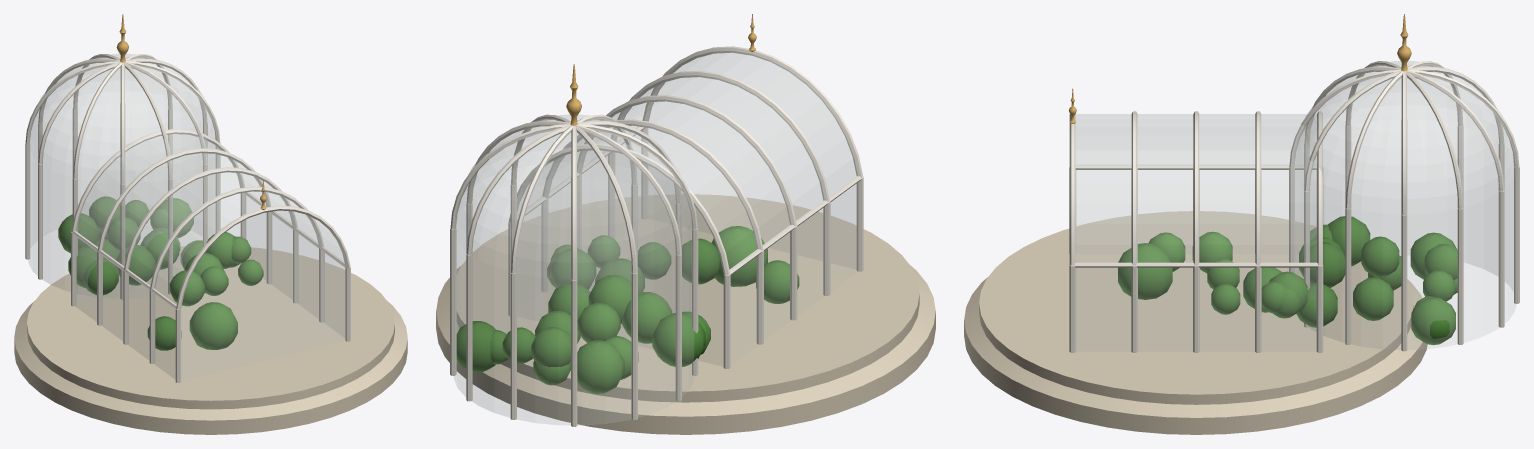
The model's file is mini.glb.
3 renders of one model, left to right at view 1: azimuth 30°, elevation 25°; view 2: azimuth 150°, elevation 25°; view 3: azimuth 270°, elevation 25°, orthographic. The views are drawn at different scales.
Parts seen in each view (by area): view 1: mini_glass, mini_base, mini_iron, mini_leaves; view 2: mini_glass, mini_base, mini_iron, mini_leaves; view 3: mini_glass, mini_base, mini_iron, mini_leaves.
Part boxes in pixels (left/top/right/bottom): mini_glass: left=28, top=54, right=345, bottom=380; mini_base: left=14, top=246, right=407, bottom=434; mini_iron: left=25, top=14, right=350, bottom=382; mini_leaves: left=58, top=196, right=263, bottom=350; mini_glass: left=454, top=51, right=857, bottom=425; mini_base: left=436, top=194, right=935, bottom=434; mini_iron: left=450, top=14, right=863, bottom=426; mini_leaves: left=456, top=226, right=799, bottom=393; mini_glass: left=1076, top=61, right=1516, bottom=351; mini_base: left=964, top=211, right=1427, bottom=434; mini_iron: left=1068, top=14, right=1519, bottom=352; mini_leaves: left=1118, top=216, right=1457, bottom=345.
Bounding box in the file's own units: 1.31 × 1 × 1.56.
